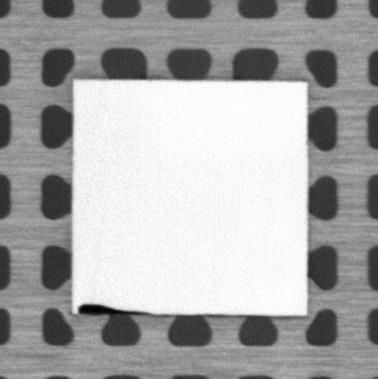DIE_BROKEN: (77, 303, 152, 317)
